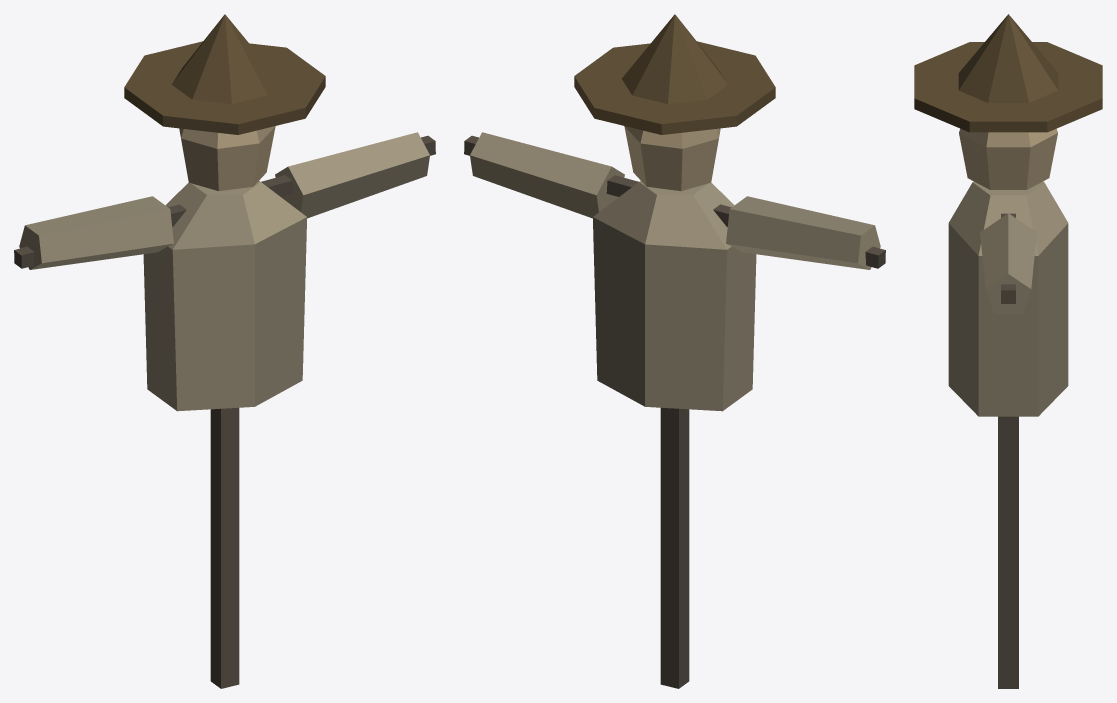
Rendered from walk_prop_scarecrow.glb.
3 renders of one model, left to right at view 1: azimuth 30°, elevation 25°; view 2: azimuth 150°, elevation 25°; view 3: azimuth 270°, elevation 25°, orthographic.
Parts seen in each view (by area): view 1: walk_prop_scarecrow; view 2: walk_prop_scarecrow; view 3: walk_prop_scarecrow.
Boxes of the visible parts, <box> form: walk_prop_scarecrow: <box>14,14,435,688</box>; walk_prop_scarecrow: <box>464,14,885,688</box>; walk_prop_scarecrow: <box>914,14,1102,688</box>.
Size of the model in its own units: 1.6 by 2.47 by 0.6282.
1 material, 1 textured.
